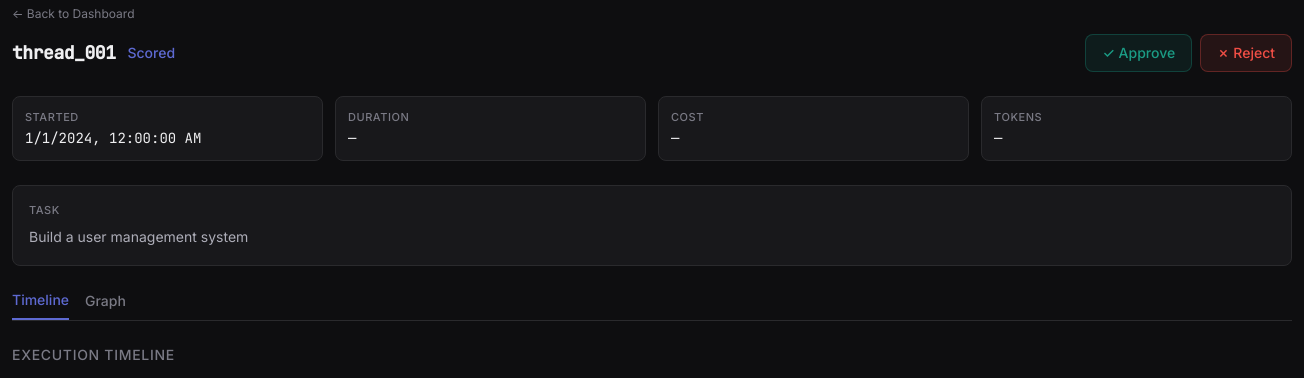
Test: ExecutionPage › State Transitions › should show confirmation before approve
Click the button "✓ Approve" at (1139, 53), box left=1086, top=34, right=1192, bottom=72
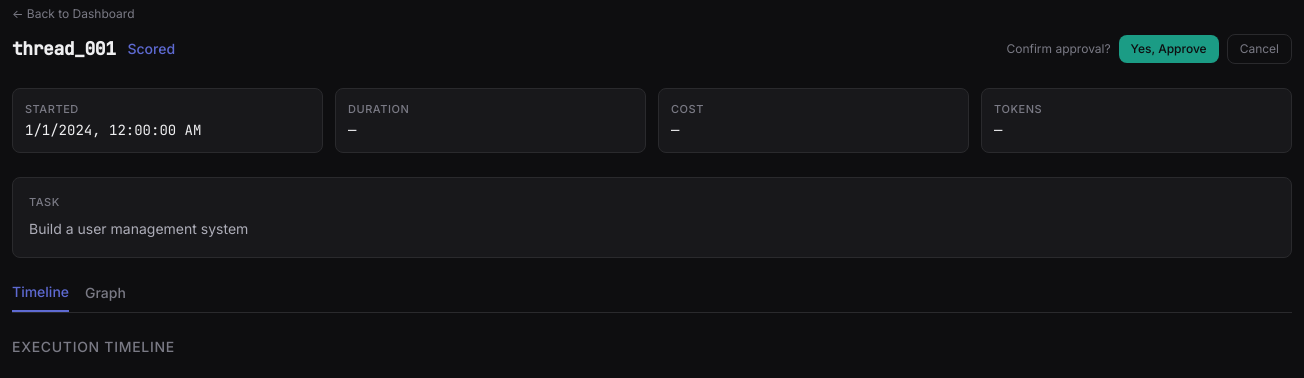
Expected: the text "Confirm approval?" is shown, left=1006, top=41, right=1111, bottom=57
Expected: the button "Yes, Approve" is shown, left=1119, top=35, right=1219, bottom=63
